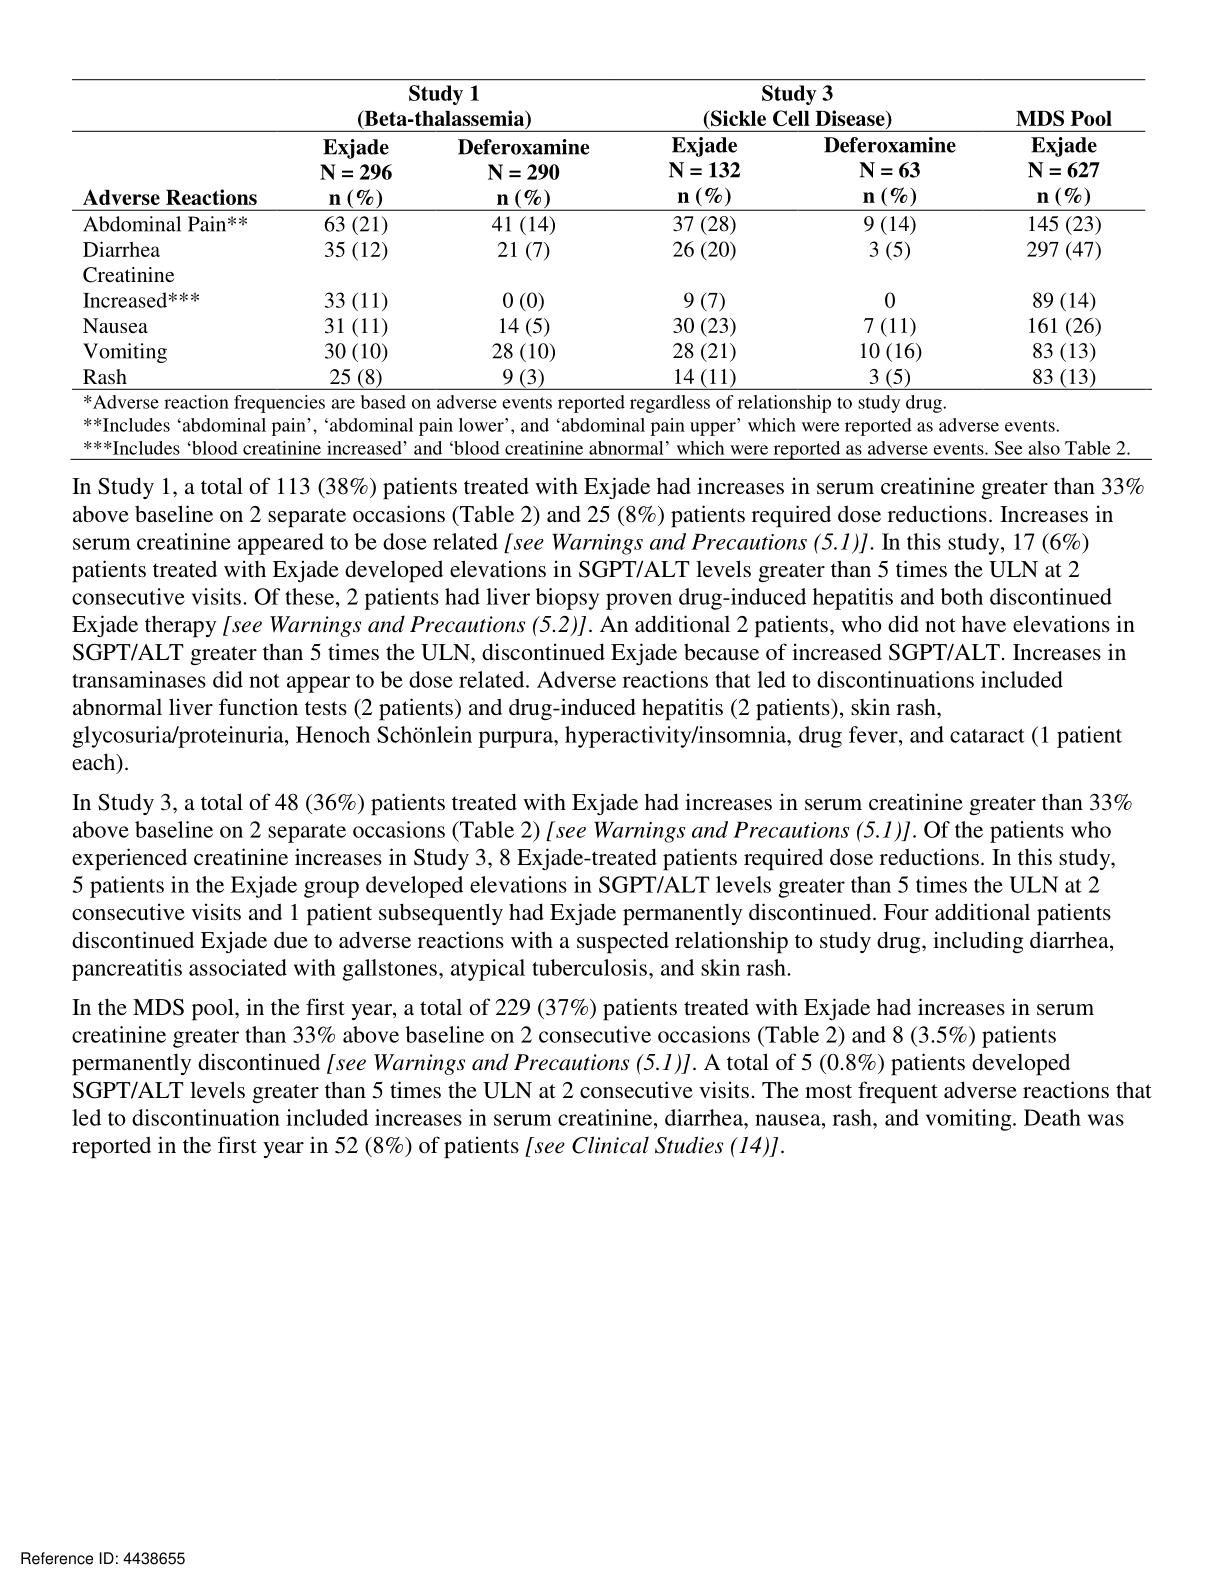partial_lined_merged_cells: (69, 77, 1155, 392)
